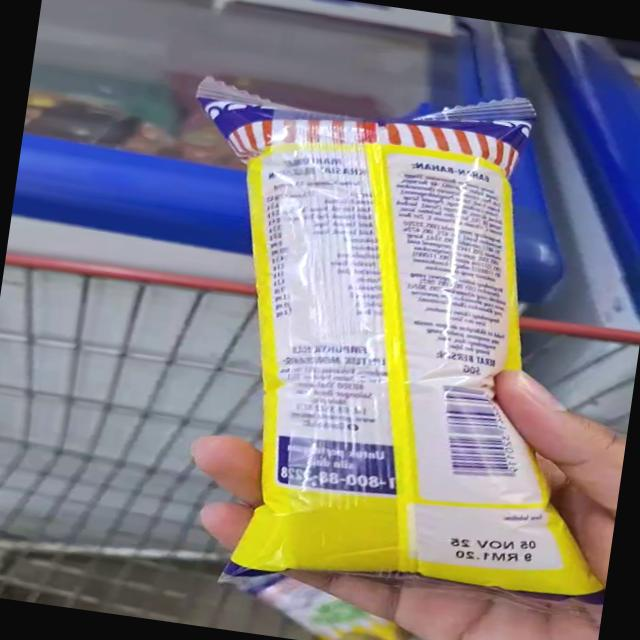Roti: (182, 302, 572, 625), (204, 50, 526, 358)
